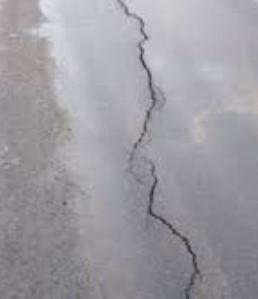crack: (117, 2, 204, 299)
